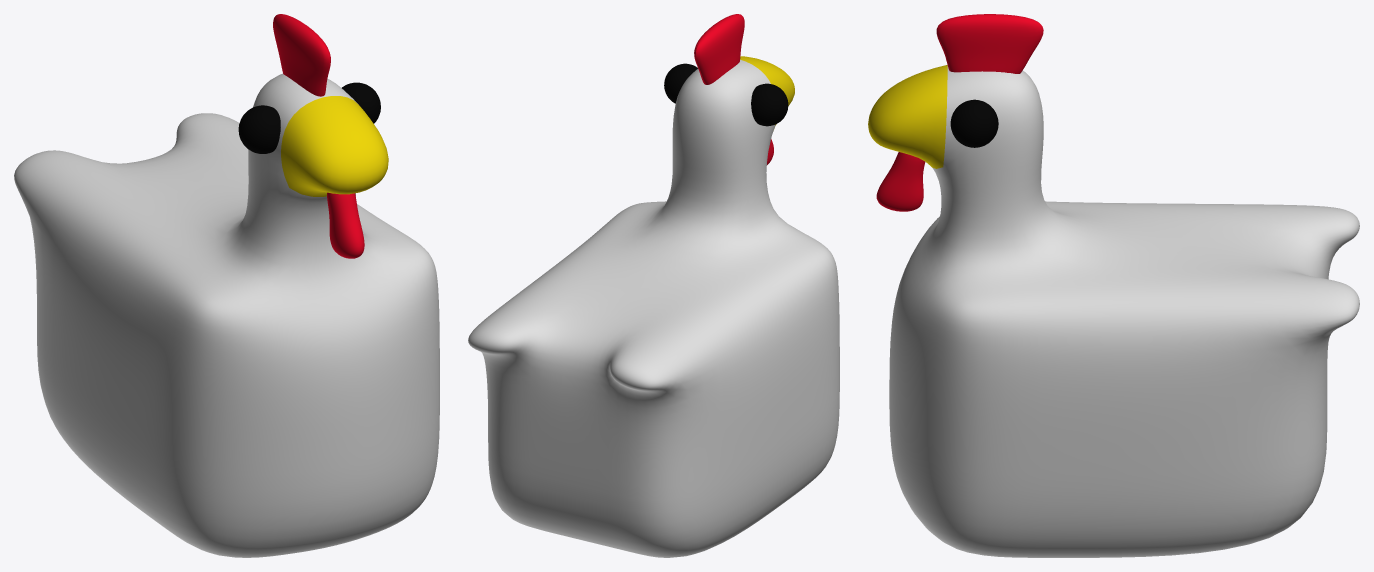
Rendered from chiken.fbx.
The picture shows the model from 3 angles, left to right: view 1: azimuth 30°, elevation 25°; view 2: azimuth 150°, elevation 25°; view 3: azimuth 270°, elevation 25°; orthographic projection. The views are drawn at different scales.
Parts seen in each view (by area): view 1: Cube.001, Cube.002, Sphere.001; view 2: Cube.001, Cube.002, Sphere.001; view 3: Cube.001, Cube.002, Sphere.001.
Part boxes in pixels (x1,y1,x2,y2): Cube.001: (14, 73, 439, 557); Cube.002: (273, 14, 364, 258); Sphere.001: (238, 82, 380, 153); Cube.001: (468, 56, 839, 557); Cube.002: (694, 14, 773, 164); Sphere.001: (664, 63, 788, 126); Cube.001: (868, 65, 1359, 557); Cube.002: (876, 14, 1043, 211); Sphere.001: (950, 99, 998, 147).
Bounding box in the file's own units: 200 × 369 × 328.
